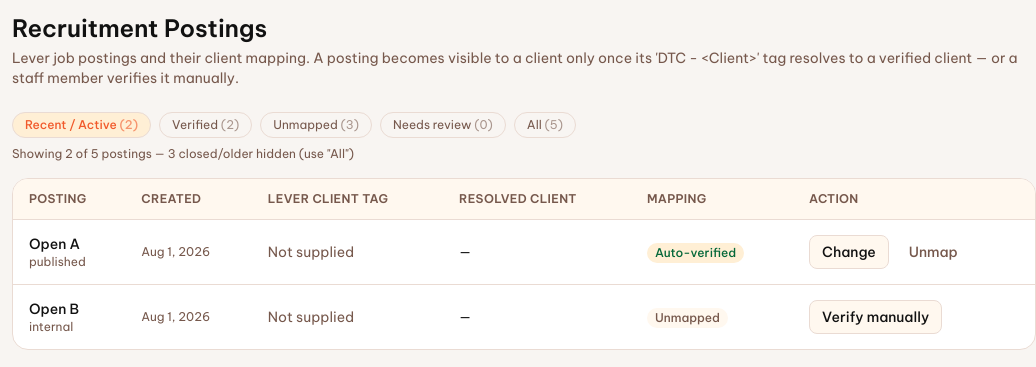
Scenario: PostingsView filter chips › "Verified" shows only VERIFIED postings, across all states
Expected: the text "Open A" is shown, x1=29 y1=235 x2=80 y2=253
Click the button "Verified (2)".
click(206, 125)  # box x1=159 y1=112 x2=252 y2=138
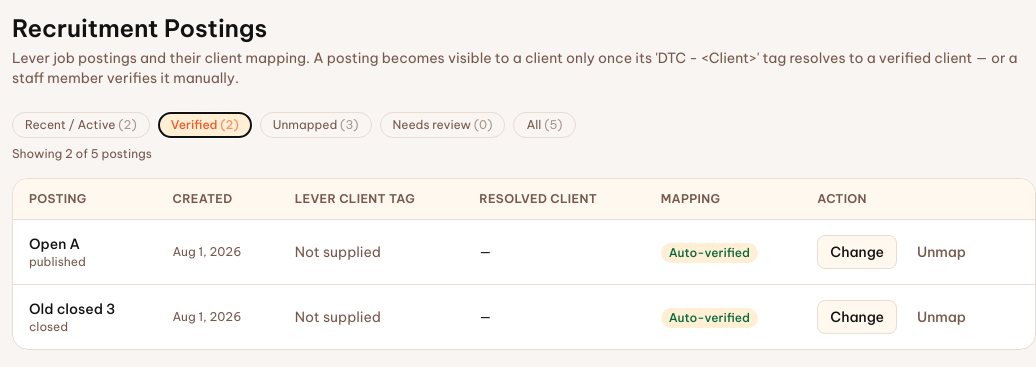
Expected: the text "Open A" is shown, x1=29 y1=235 x2=80 y2=253
Expected: the text "Old closed 3" is shown, x1=29 y1=300 x2=115 y2=318
Expected: the text "Open B" is gone
